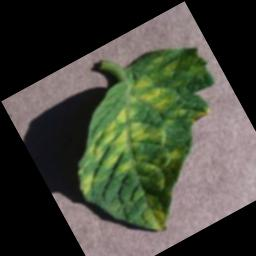Leaf_Mold: (79, 91, 199, 212), (136, 78, 178, 120), (135, 199, 175, 239), (70, 161, 108, 197), (187, 105, 213, 126), (129, 73, 154, 94)
